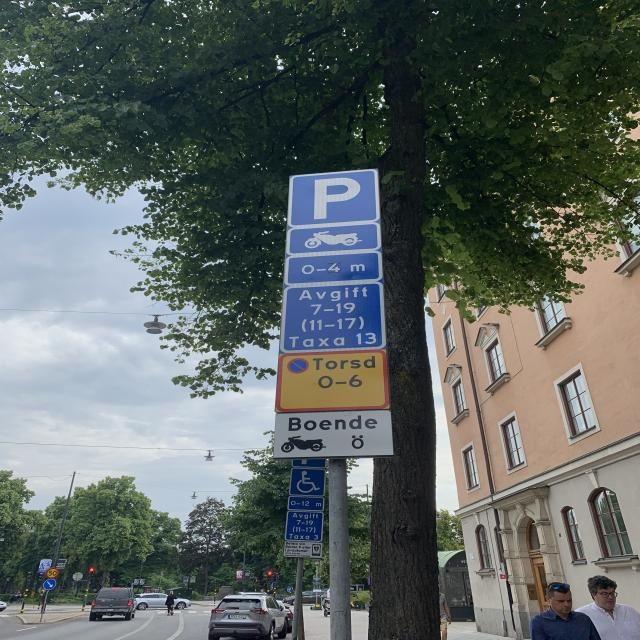P-skylt: (284, 166, 382, 228)
